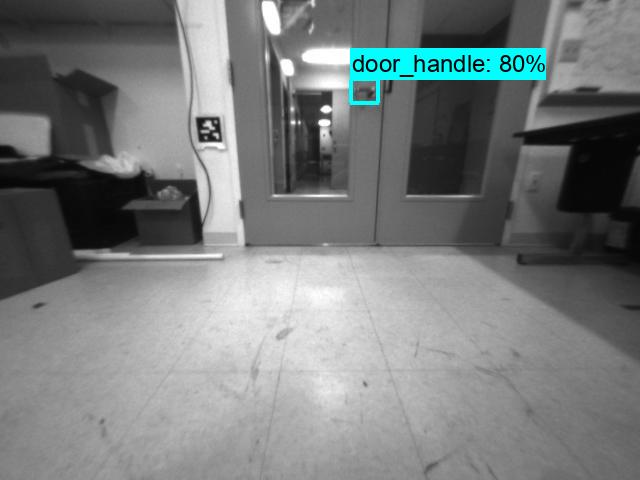door_handle: (349, 81, 381, 101)
